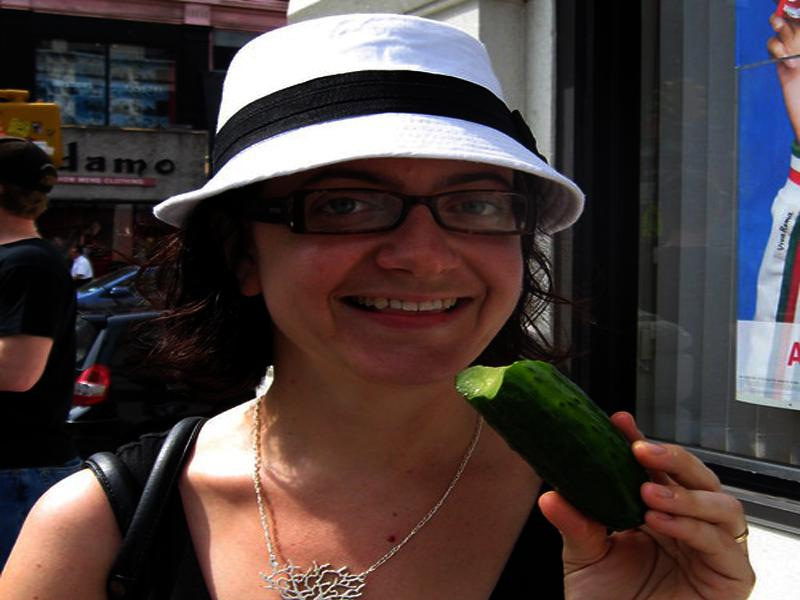Cucumber: (458, 359, 653, 530)
